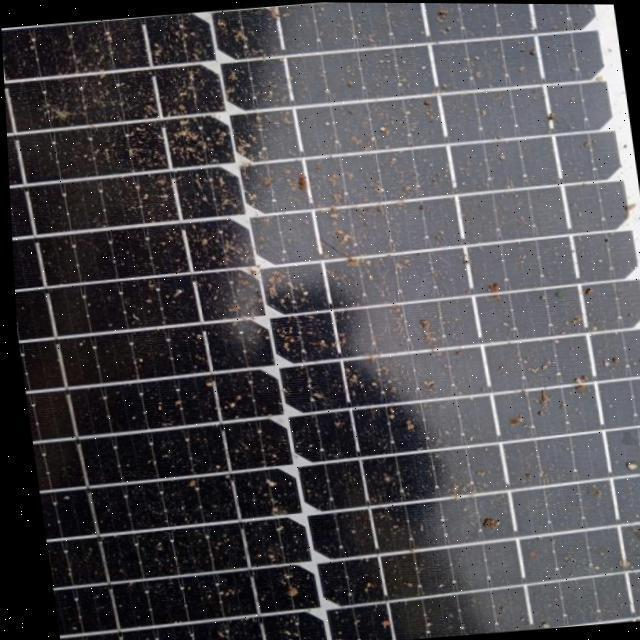Surface Contaminant: (1, 2, 640, 640)
